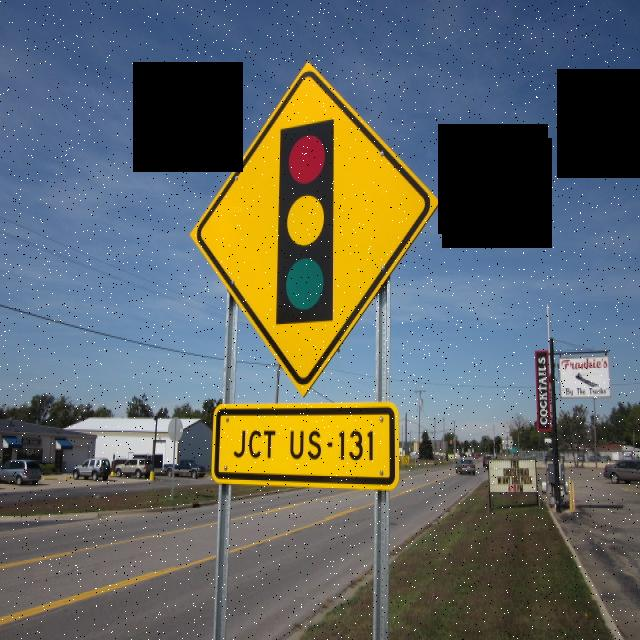warning: (194, 61, 437, 392), (202, 404, 422, 498)
